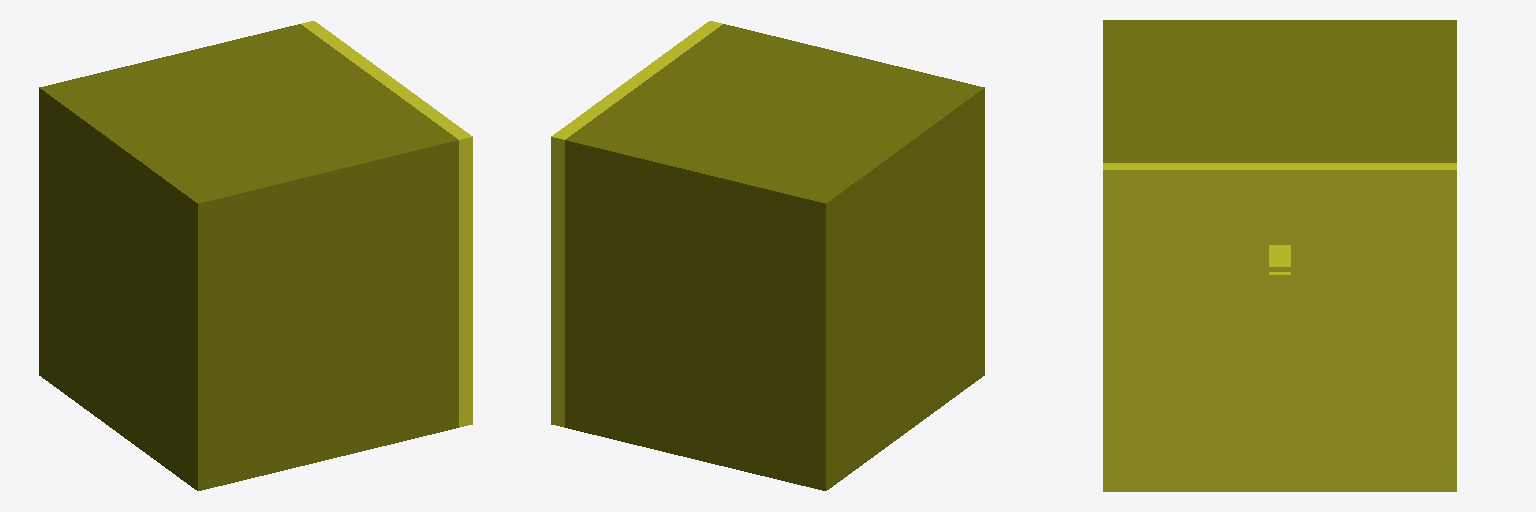
The robot description file, URDF, robot "cabinet":
<robot name="cabinet">
  
  <link name="cabinet_box_back">
    <visual>
      <origin xyz="-0.1425 0.15 0.0" rpy="0 0 0"/>
      <geometry>
        <box size="0.015 0.3 0.3"/>
      </geometry>
      <material name="dark_yellow">
        <color rgba="0.5 0.5 0.1 1"/>
      </material>
    </visual> 
    <collision>
      <origin xyz="-0.1425 0.15 0.0" rpy="0 0 0"/>
      <geometry>
        <box size="0.015 0.3 0.3"/>
      </geometry>
    </collision>
  </link>

  <link name="cabinet_box_top">
    <visual>
      <origin xyz="0.0 0.0 0.0" rpy="0 0 0"/>
      <geometry>
        <box size="0.27 0.015 0.27"/>
      </geometry>
      <material name="dark_yellow">
        <color rgba="0.5 0.5 0.1 1"/>
      </material>
    </visual> 
    <collision>
      <origin xyz="0.0 0.0 0.0" rpy="0 0 0"/>
      <geometry>
        <box size="0.27 0.015 0.27"/>
      </geometry>
    </collision>
  </link>

  <link name="cabinet_box_bottom">
    <visual>
      <origin xyz="0.0 0.0 0.0" rpy="0 0 0"/>
      <geometry>
        <box size="0.27 0.015 0.27"/>
      </geometry>
      <material name="dark_yellow">
        <color rgba="0.5 0.5 0.1 1"/>
      </material>
    </visual> 
    <collision>
      <origin xyz="0.0 0.0 0.0" rpy="0 0 0"/>
      <geometry>
        <box size="0.27 0.015 0.27"/>
      </geometry>
    </collision>
  </link>

  <link name="cabinet_box_left">
    <visual>
      <origin xyz="0.0 0.0 0.0" rpy="0 0 0"/>
      <geometry>
        <box size="0.27 0.3 0.015"/>
      </geometry>
      <material name="dark_yellow">
        <color rgba="0.5 0.5 0.1 1"/>
      </material>
    </visual> 
    <collision>
      <origin xyz="0.0 0.0 0.0" rpy="0 0 0"/>
      <geometry>
        <box size="0.27 0.3 0.015"/>
      </geometry>
    </collision>
  </link>

  <link name="cabinet_box_right">
    <visual>
      <origin xyz="0.0 0.0 0.0" rpy="0 0 0"/>
      <geometry>
        <box size="0.27 0.3 0.015"/>
      </geometry>
      <material name="dark_yellow">
        <color rgba="0.5 0.5 0.1 1"/>
      </material>
    </visual> 
    <collision>
      <origin xyz="0.0 0.0 0.0" rpy="0 0 0"/>
      <geometry>
        <box size="0.27 0.3 0.015"/>
      </geometry>
    </collision>
  </link>

  <link name="cabinet_door">
    <visual>
      <origin xyz="0.0 0.0 0.15" rpy="0 0 0"/>
      <geometry>
        <box size="0.015 0.3 0.3"/>
      </geometry>
      <material name="b">
        <color rgba="0.8 0.8 0.2 1"/>
      </material>
    </visual> 
    <collision>
      <origin xyz="0.0 0.0 0.15" rpy="0 0 0"/>
      <geometry>
        <box size="0.015 0.3 0.3"/>
      </geometry>
    </collision>
  </link>

  <link name="door_handle_piece_1">
    <visual>
      <origin xyz="0 0 0"/>
      <geometry>
        <box size="0.0508 0.01905 0.009525"/>
      </geometry>
      <material name="b">
        <color rgba="0.8 0.8 0.2 1"/>
      </material>
    </visual>
    <collision>
      <origin xyz="0 0 0"/>
      <geometry>
        <box size="0.0508 0.01905 0.009525"/>
      </geometry>
    </collision>
  </link>

  <link name="door_handle_piece_2">
    <visual>
      <origin xyz="0 0 0"/>
      <geometry>
        <box size="0.0508 0.01905 0.009525"/>
      </geometry>
      <material name="b">
        <color rgba="0.8 0.8 0.2 1"/>
      </material>
    </visual>
    <collision>
      <origin xyz="0 0 0"/>
      <geometry>
        <box size="0.0508 0.01905 0.009525"/>
      </geometry>
    </collision>
  </link>

  <link name="door_handle">
    <visual>
      <origin xyz="0 0 0"/>
      <geometry>
        <box size="0.009525 0.01905 0.15"/>
      </geometry>
      <material name="b">
        <color rgba="0.8 0.8 0.2 1"/>
      </material>
    </visual>
    <collision>
      <origin xyz="0 0 0"/>
      <geometry>
        <box size="0.009525 0.01905 0.15"/>
      </geometry>
    </collision>
  </link>

  <joint name="cabinet_hinge" type="revolute">
    <parent link="cabinet_box_right"/>
    <child link="cabinet_door"/>
    <origin xyz="0.1425 0.0 -0.0075"/>
    <axis xyz="0 1 0"/>
    <limit lower="0" upper="0.3" effort="100" velocity="3"/>
  </joint>
  
  <joint name="cabinet_back_top_joint" type="fixed">
    <parent link="cabinet_box_back"/>
    <child link="cabinet_box_top"/>
    <origin xyz="0.0 0.2925 0.0"/>
  </joint>

  <joint name="cabinet_back_bottom_joint" type="fixed">
    <parent link="cabinet_box_back"/>
    <child link="cabinet_box_bottom"/>
    <origin xyz="0.0 0.0075 0.0"/>
  </joint>

  <joint name="cabinet_back_left_joint" type="fixed">
    <parent link="cabinet_box_back"/>
    <child link="cabinet_box_left"/>
    <origin xyz="0.0 0.15 0.1425"/>
  </joint>

  <joint name="cabinet_back_right_joint" type="fixed">
    <parent link="cabinet_box_back"/>
    <child link="cabinet_box_right"/>
    <origin xyz="0.0 0.15 -0.1425"/>
  </joint>

  <joint name="cabinet_handle_piece_1" type="fixed">
    <parent link="cabinet_door"/>
    <child link="door_handle_piece_1"/>
    <origin xyz="0.0254 0.0 0.22499999999999998"/>
  </joint>

  <joint name="cabinet_handle_piece_2" type="fixed">
    <parent link="cabinet_door"/>
    <child link="door_handle_piece_2"/>
    <origin xyz="0.0254 0.0 0.075"/>
  </joint>

  <joint name="cabinet_handle" type="fixed">
    <parent link="cabinet_door"/>
    <child link="door_handle"/>
    <origin xyz="0.0508 0.0 0.15"/>
  </joint>


</robot>

--- Render facts (derived) ---
3 views of the same robot in one strip: view 1: azimuth 30°, elevation 25°; view 2: azimuth 150°, elevation 25°; view 3: azimuth 270°, elevation 25° (orthographic).
Model cabinet with 9 links and 8 joints (1 revolute, 7 fixed), rooted at cabinet_box_back, posed all joints at 0.
Links seen in each view (by area): view 1: cabinet_box_bottom, cabinet_box_back, cabinet_box_left, cabinet_door, cabinet_box_right; view 2: cabinet_box_top, cabinet_box_back, cabinet_box_left, cabinet_door, cabinet_box_right; view 3: cabinet_door, cabinet_box_left, door_handle, cabinet_box_back, door_handle_piece_1.
Boxes of the visible links, x1,y1,x2,y2 form: cabinet_box_bottom: [212, 155, 458, 473]; cabinet_box_back: [39, 84, 211, 490]; cabinet_box_left: [53, 24, 458, 214]; cabinet_door: [301, 21, 472, 427]; cabinet_box_right: [212, 414, 458, 487]; cabinet_box_top: [565, 155, 811, 473]; cabinet_box_back: [812, 84, 984, 490]; cabinet_box_left: [565, 24, 970, 214]; cabinet_door: [551, 21, 722, 427]; cabinet_box_right: [565, 414, 811, 487]; cabinet_door: [1103, 163, 1456, 491]; cabinet_box_left: [1103, 28, 1456, 162]; door_handle: [1269, 272, 1290, 434]; cabinet_box_back: [1103, 20, 1456, 27]; door_handle_piece_1: [1269, 245, 1290, 271].
Bounding box of the posed robot: 0.3481 × 0.3 × 0.3 m (x, y, z).
Geometry: primitives only (box / cylinder / sphere), no mesh files.